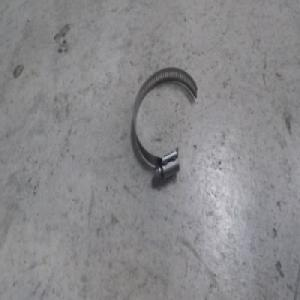AdjustableClamp: (130, 63, 196, 177)
